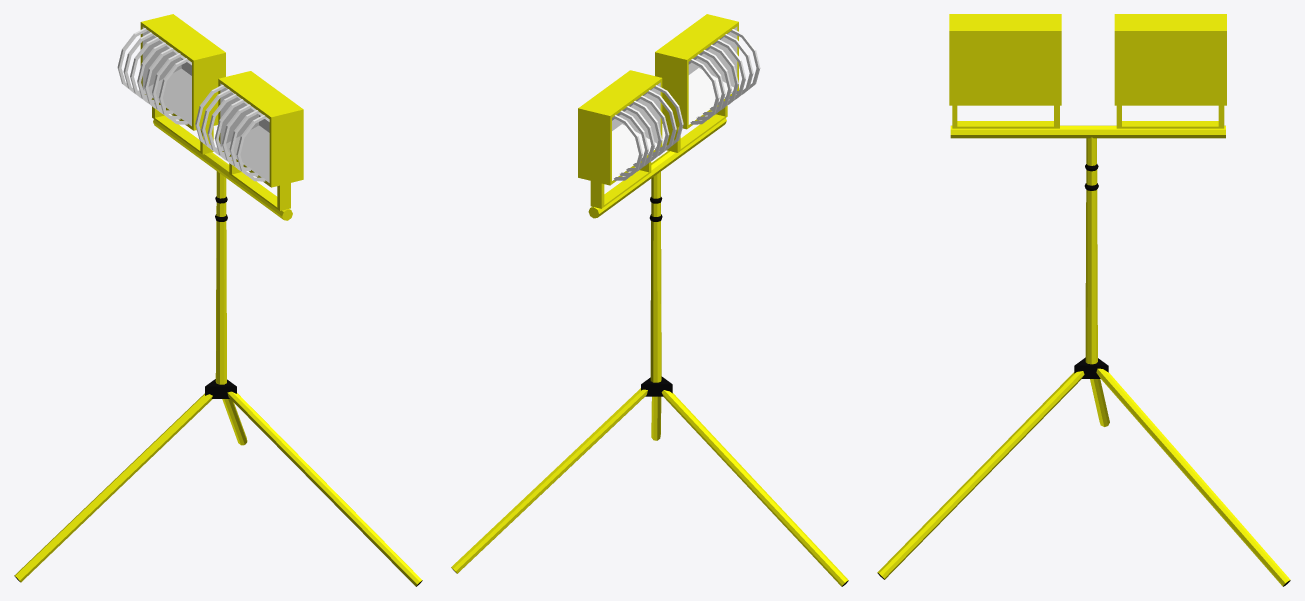
The model's file is ConstructionLight_Big.fbx.
3 views of the same model, side by side, from view 1: azimuth 30°, elevation 25°; view 2: azimuth 150°, elevation 25°; view 3: azimuth 270°, elevation 25° (orthographic). The views are drawn at different scales.
Visible parts, largest first — view 1: Cylinder005; view 2: Cylinder005; view 3: Cylinder005.
Part boxes in pixels (x1,y1,x2,y2): Cylinder005: (14,14,422,586); Cylinder005: (451,14,848,586); Cylinder005: (877,14,1290,586).
Size of the model in its own units: 133 by 191 by 141.
